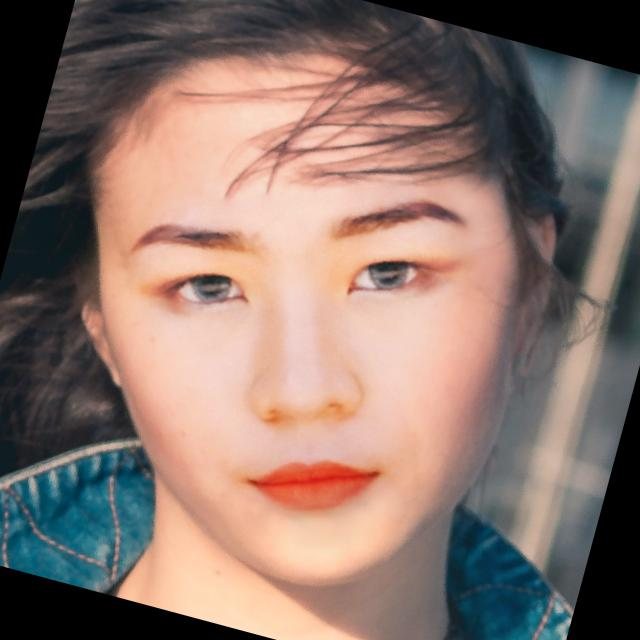face: (0, 26, 591, 625)
